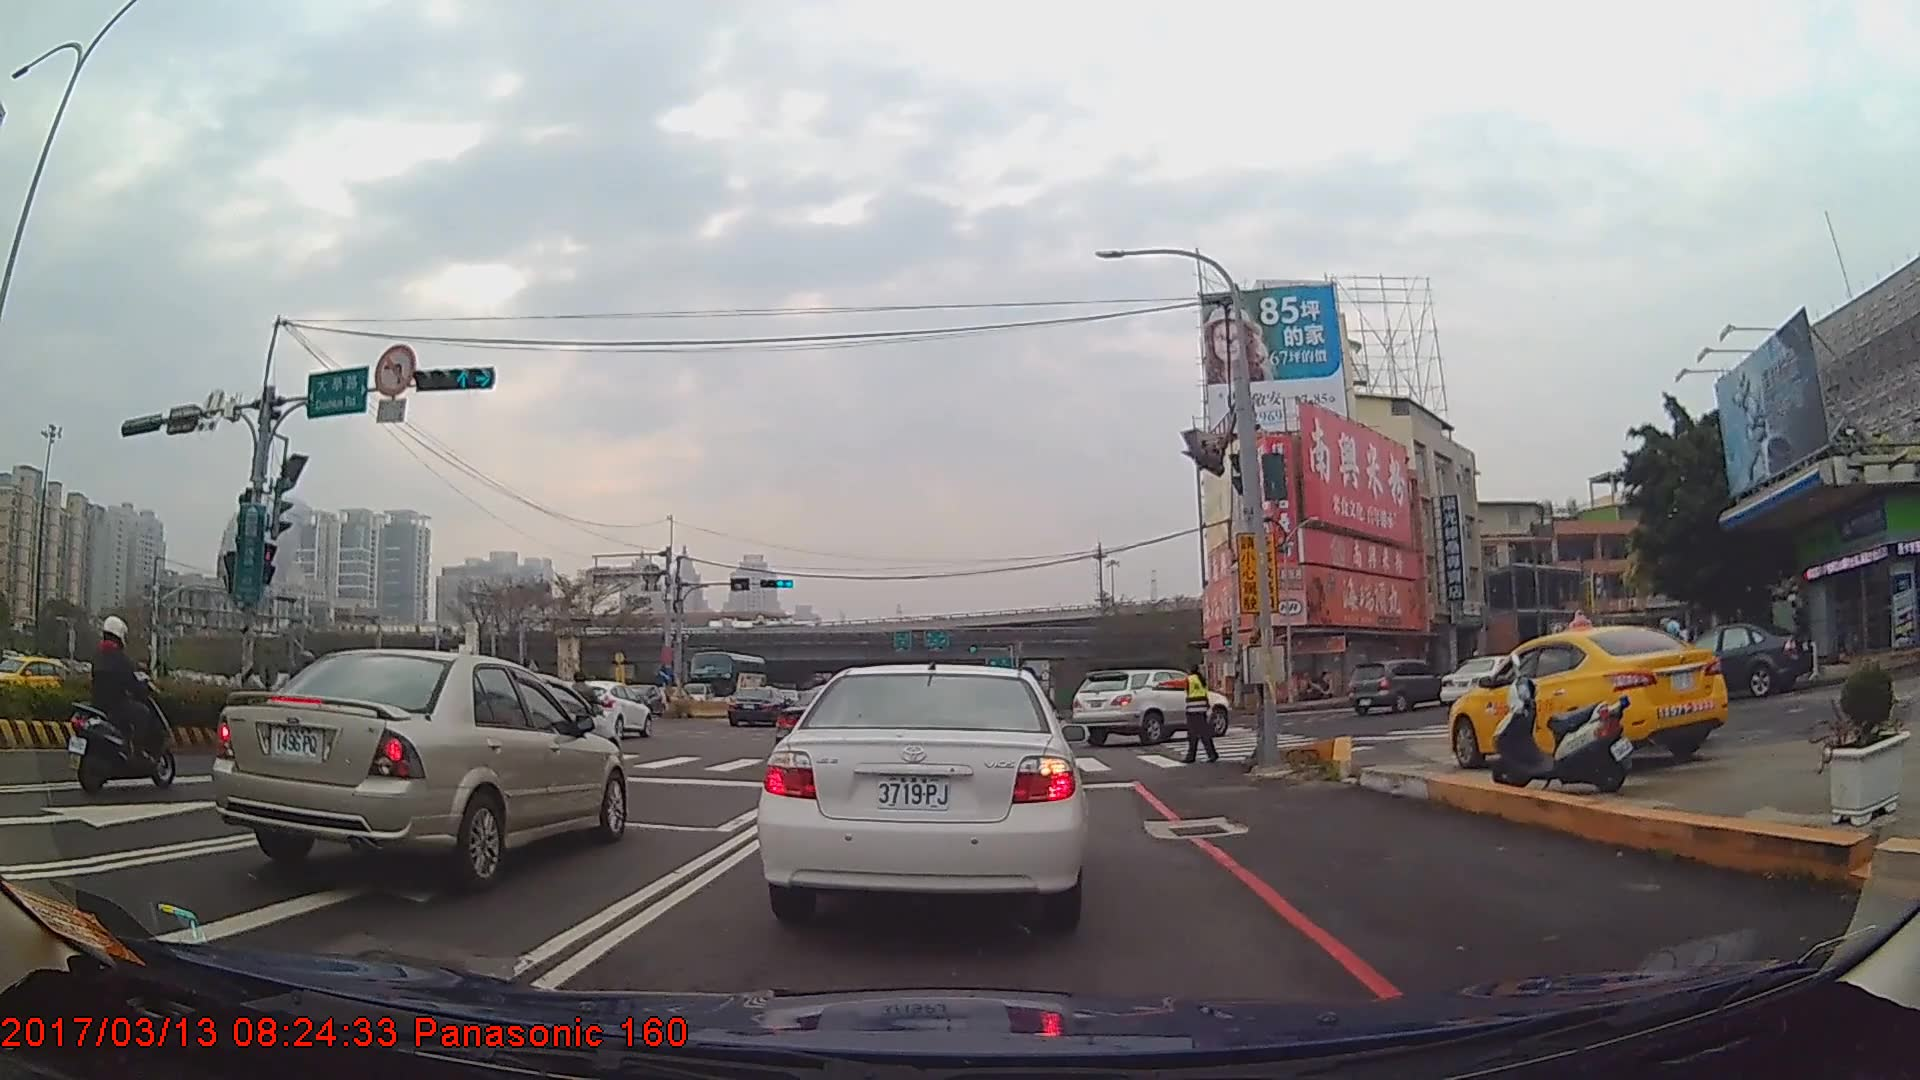pedestrian: (1144, 661, 1219, 765)
rider: (58, 611, 178, 790), (567, 671, 608, 742)
vehicle: (211, 646, 623, 888), (755, 655, 1090, 928), (1447, 620, 1727, 768), (1073, 667, 1229, 747), (1656, 622, 1811, 702), (1438, 651, 1538, 715), (1346, 657, 1449, 715), (565, 677, 652, 738), (687, 650, 769, 703), (726, 683, 793, 725)
